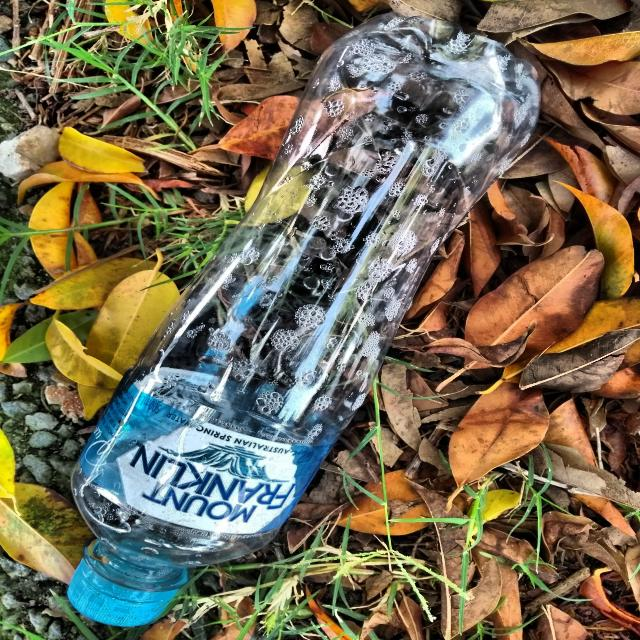Bottles: (25, 8, 583, 633)
